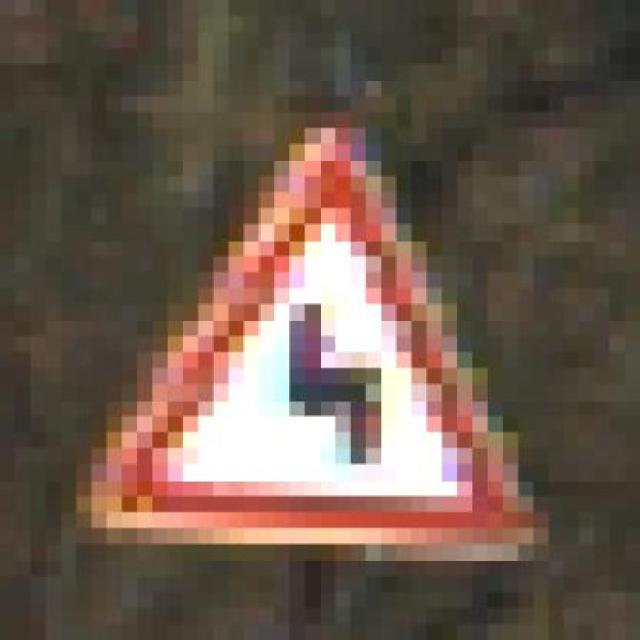Left Zig Zag Traffic: (74, 80, 561, 608)
